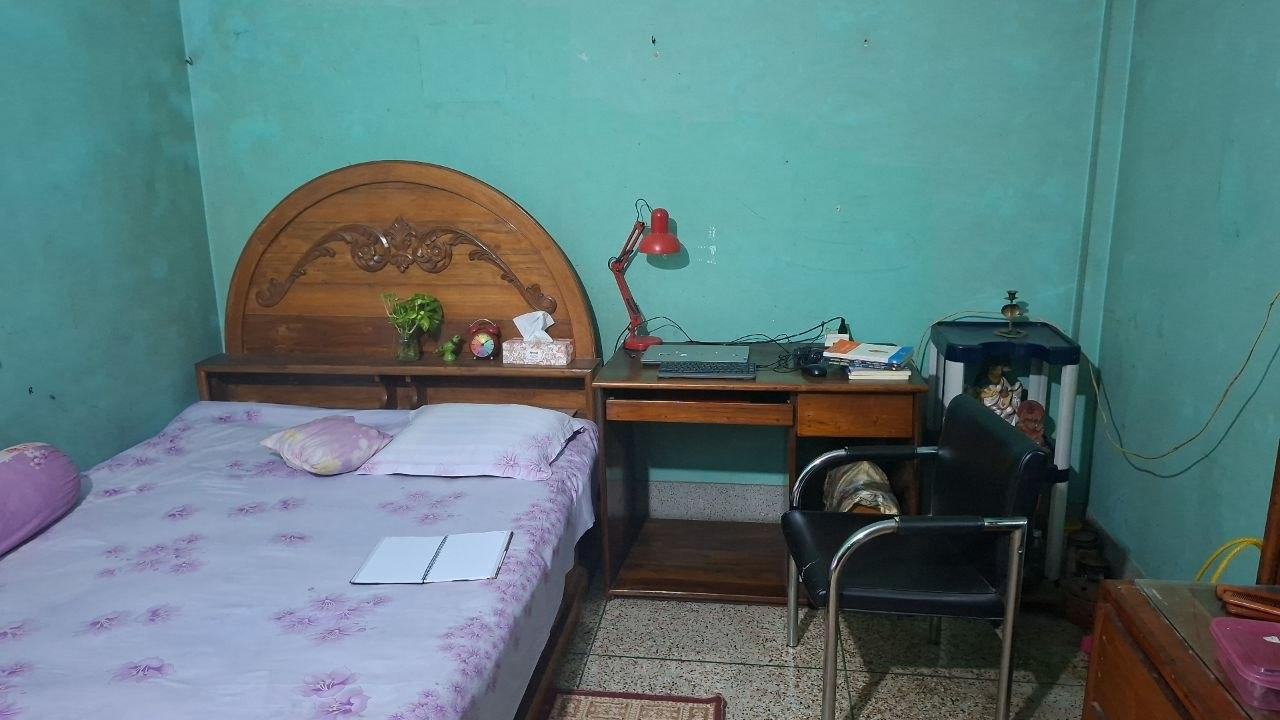Book: (837, 339, 917, 383)
Box: (496, 329, 584, 370)
Chair: (768, 393, 1055, 720)
Clock: (460, 318, 507, 364)
Keyboard: (659, 360, 783, 385)
Laptop: (659, 333, 777, 375)
Mouse: (791, 354, 839, 389)
Notebook: (356, 519, 513, 599)
Pillow: (383, 402, 580, 477), (257, 408, 417, 490), (0, 437, 94, 573)
Plant: (379, 274, 450, 383)
Table Lamp: (603, 188, 687, 370)
